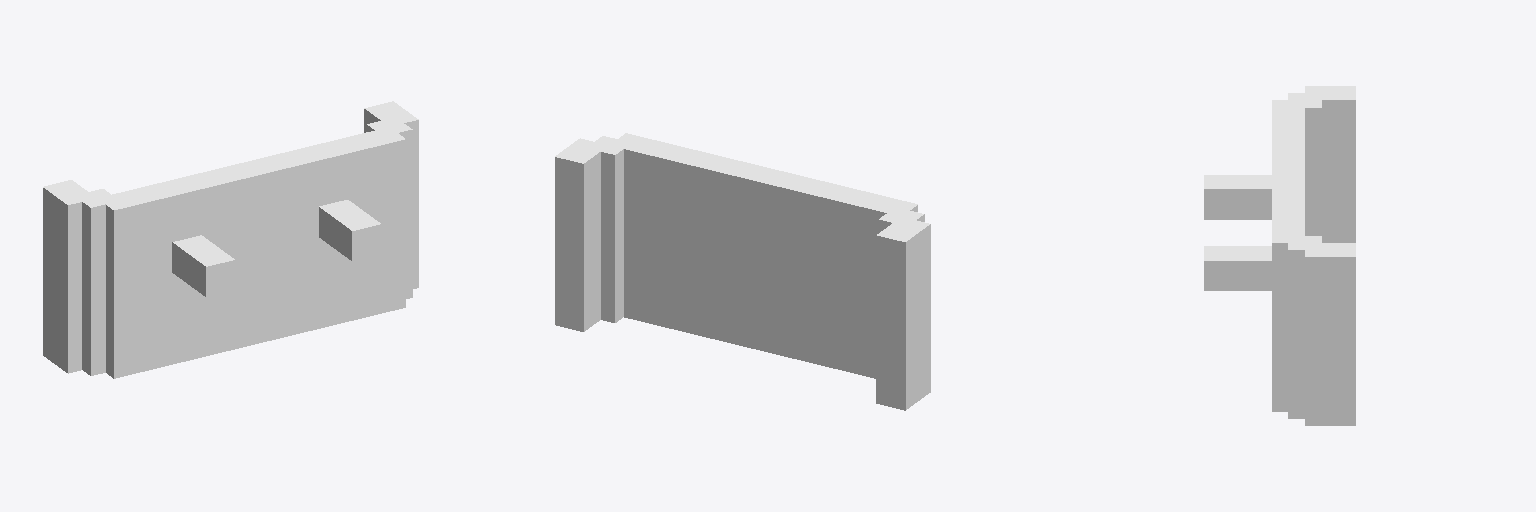
The model's file is FrontBlade.obj.
3 views of the same model, side by side, from view 1: azimuth 30°, elevation 25°; view 2: azimuth 150°, elevation 25°; view 3: azimuth 270°, elevation 25° (orthographic).
Parts seen in each view (by area): view 1: object 1; view 2: object 1; view 3: object 1.
Boxes of the visible parts, <box> form: object 1: <box>43,101,418,378</box>; object 1: <box>555,133,930,410</box>; object 1: <box>1204,86,1355,425</box>.
Size of the model in its own units: 2.4 by 1.1 by 0.9.